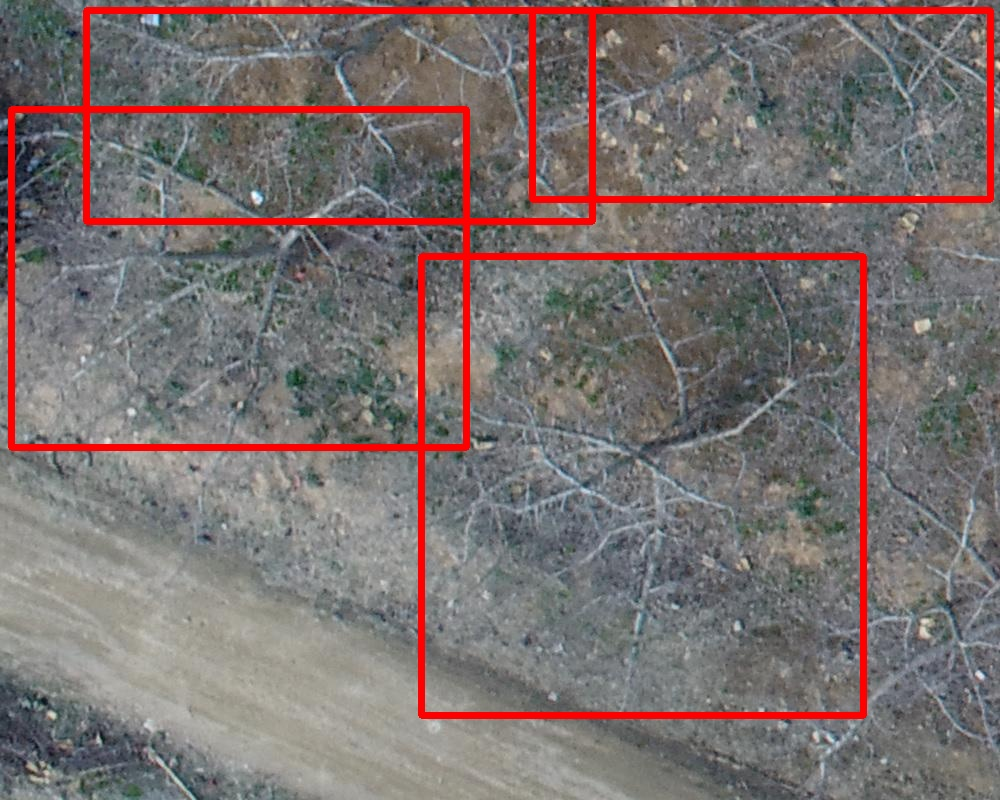apple: (421, 256, 863, 715), (11, 109, 466, 447), (86, 10, 592, 221), (532, 10, 990, 199)
